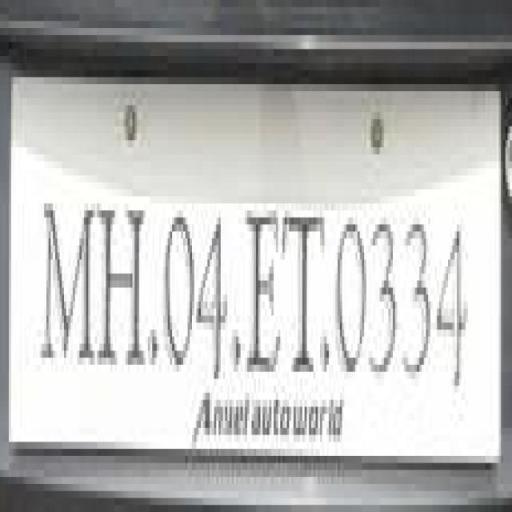number plate: (4, 182, 488, 464)
